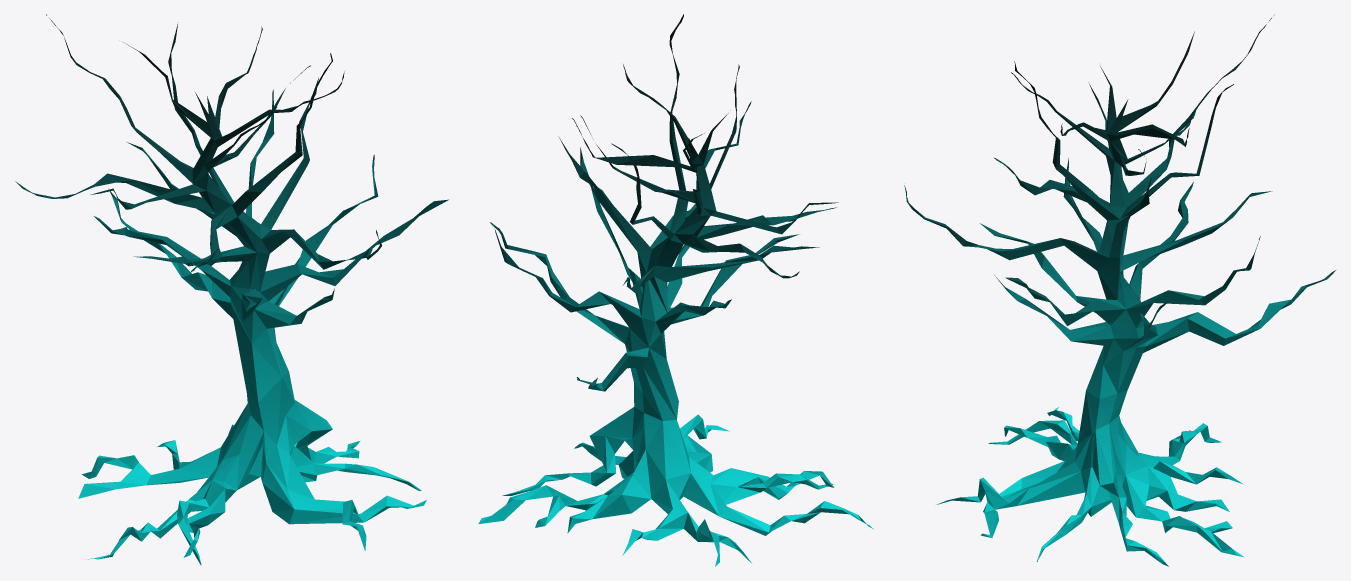
Rendered from OakTreeBroken04.fbx.
The picture shows the model from 3 angles, left to right: view 1: azimuth 30°, elevation 25°; view 2: azimuth 150°, elevation 25°; view 3: azimuth 270°, elevation 25°; orthographic projection. The views are drawn at different scales.
Visible parts, largest first — view 1: OakTreeDead01_LOD0; view 2: OakTreeDead01_LOD0; view 3: OakTreeDead01_LOD0.
Boxes of the visible parts, box(x1,y1,x2,y2) form: OakTreeDead01_LOD0: box(15, 14, 448, 565); OakTreeDead01_LOD0: box(478, 14, 873, 566); OakTreeDead01_LOD0: box(904, 14, 1335, 566).
Size of what is drawn, in the model's own units: 707 by 944 by 797.
